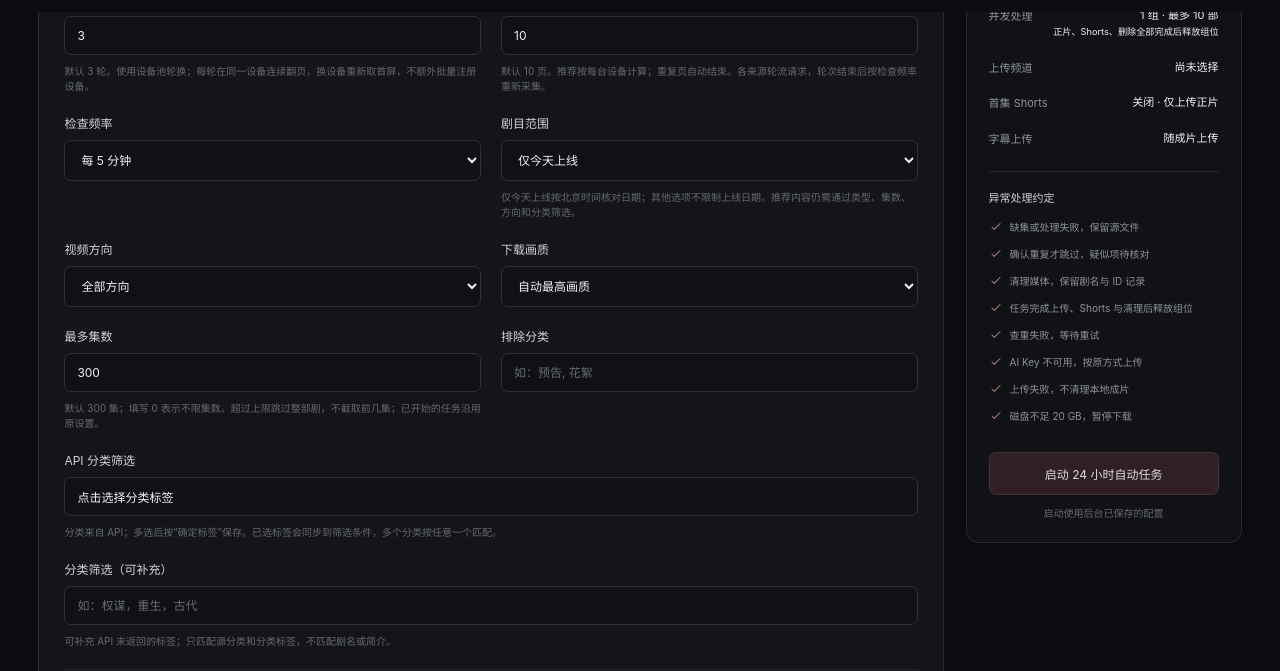
Test: native automation boundaries › accepts zero as an unlimited episode filter and saves category wording
This screenshot has width=1280, height=671.
(page scrolled)
Replace the text in the number field labelled "最多集数 默认 300 集；填写 0 表示不限集数。超过上限跳过整部剧，不截取前几集；已开始的任务沿用原设置。" with "0". click: (273, 372)
box: [64,352,481,392]
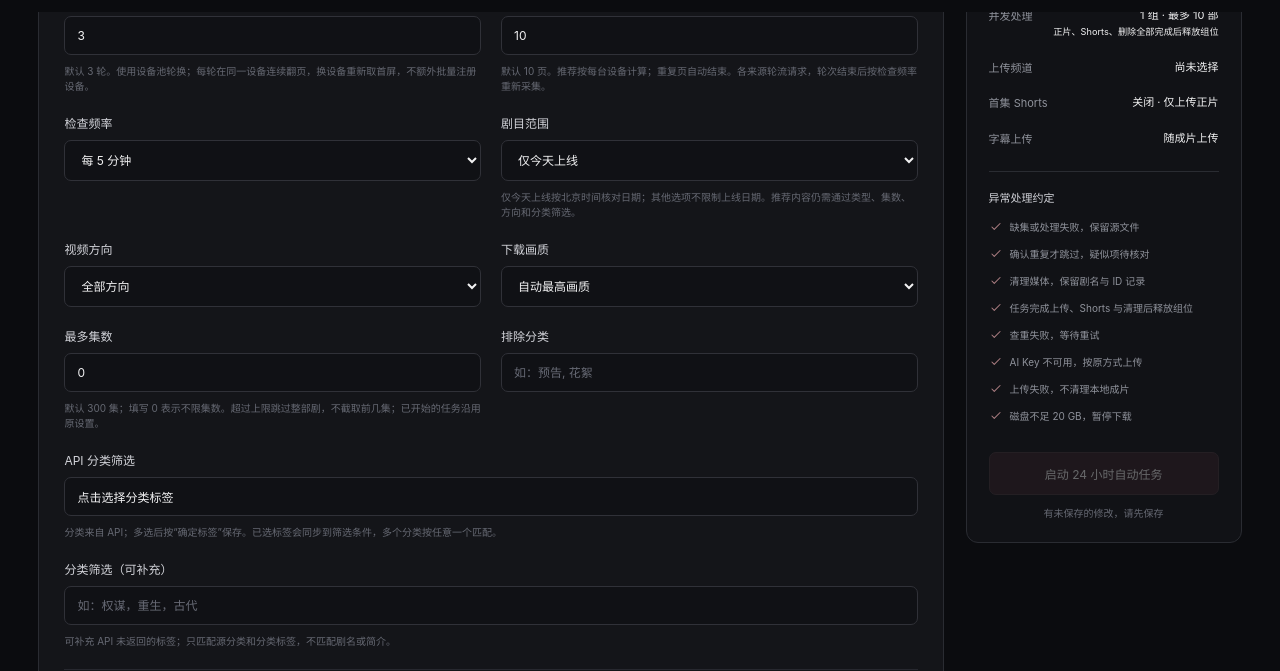
Type "权谋，重生，古代，甜宠，校园，青春" into the field with placeholder "如：权谋，重生，古代". click: (491, 605)
box: [64,586,918,624]
(page scrolled)
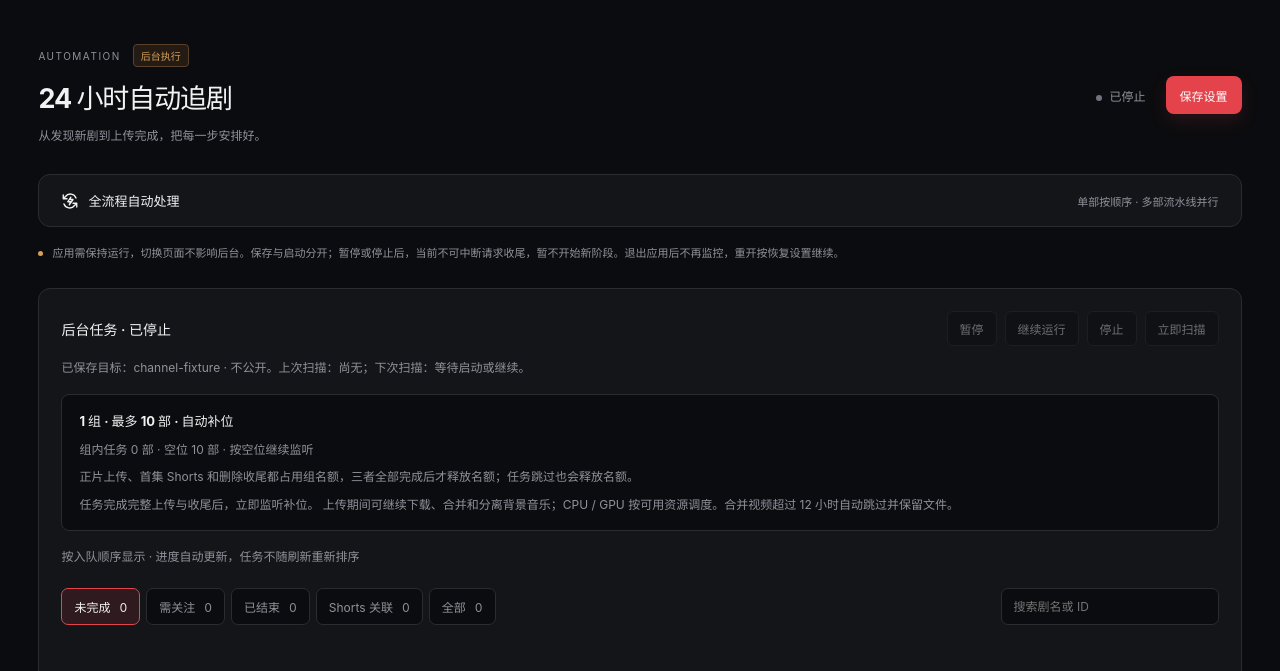
Click the button "保存设置". click: (1204, 95)
box: [1166,76,1242,114]
(page scrolled)
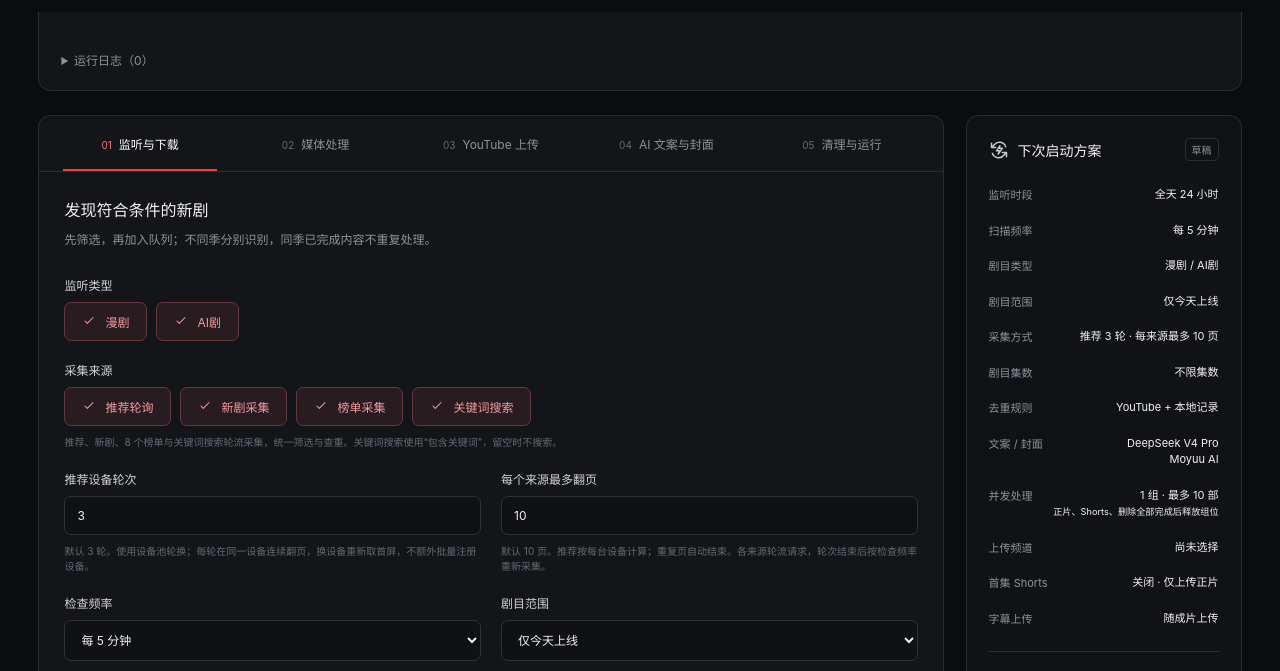
Check: the text "不限集数" is shown, box [1175,364,1219,380]
